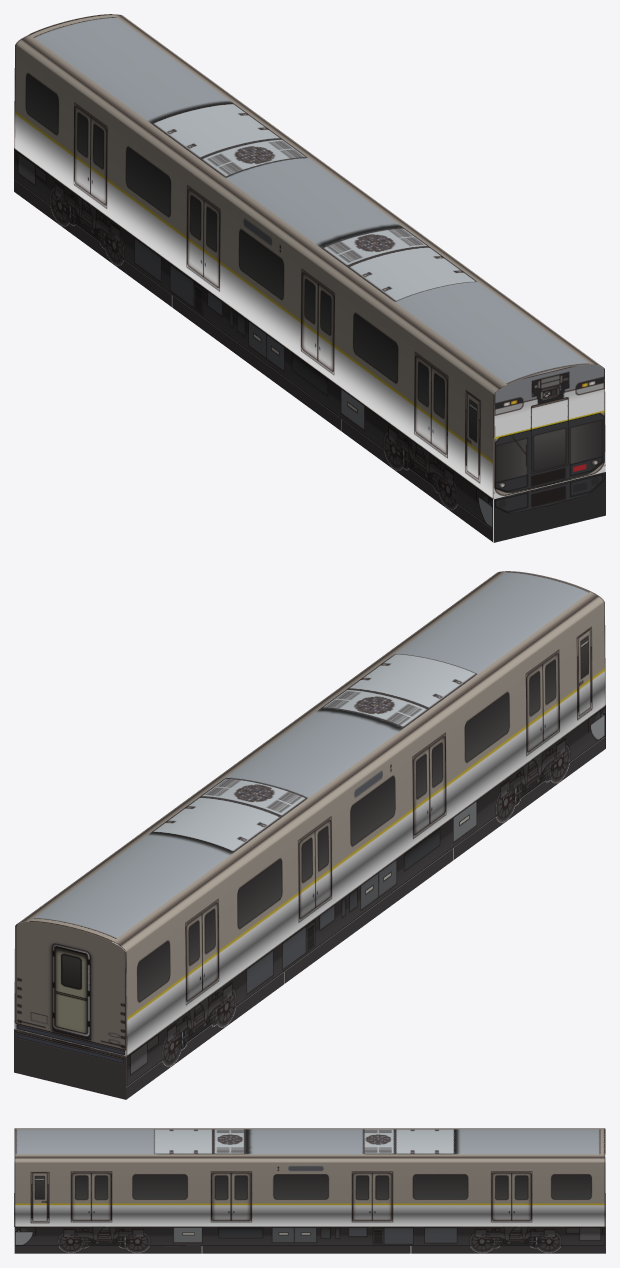
Rendered from car1.glb.
The picture shows the model from 3 angles, top to bottom: view 1: azimuth 30°, elevation 25°; view 2: azimuth 150°, elevation 25°; view 3: azimuth 270°, elevation 25°; orthographic projection. The views are drawn at different scales.
Parts seen in each view (by area): view 1: kintetsu-9020-car1; view 2: kintetsu-9020-car1; view 3: kintetsu-9020-car1.
Part boxes in pixels (<box>): kintetsu-9020-car1: <box>14,14,605,542</box>; kintetsu-9020-car1: <box>14,571,605,1099</box>; kintetsu-9020-car1: <box>14,1128,605,1253</box>.
Size of the model in its own units: 2.8 by 3.77 by 20.75.
Materials: 8 (7 with a texture image).
